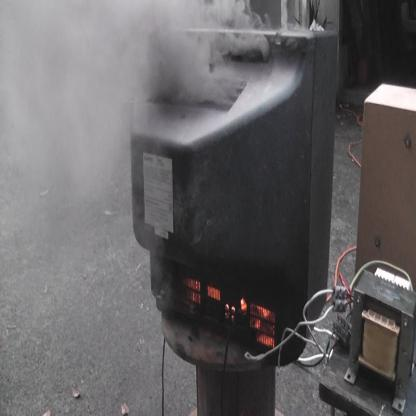fire: (247, 301, 272, 348), (183, 279, 204, 309), (204, 279, 223, 305)
smoke: (0, 2, 274, 200)
